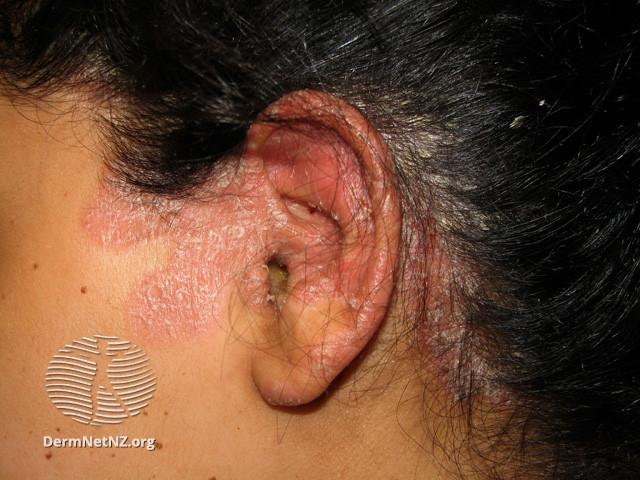Psoriasis: (80, 34, 505, 479)
